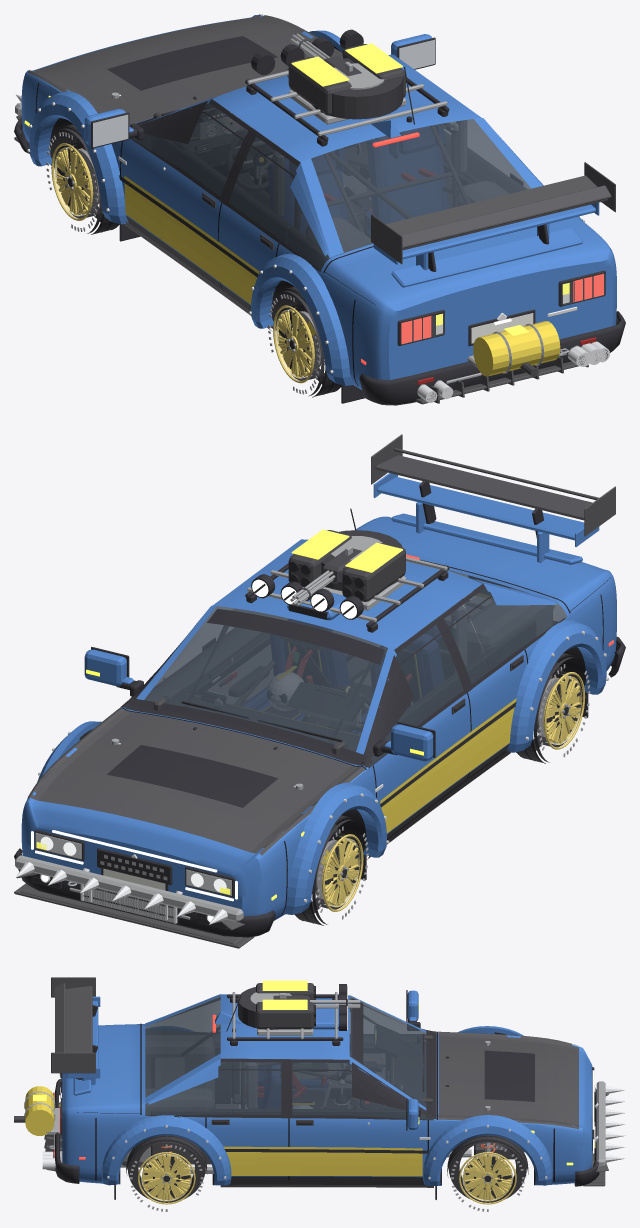
3 renders of one model, top to bottom at view 1: azimuth 30°, elevation 25°; view 2: azimuth 150°, elevation 25°; view 3: azimuth 270°, elevation 25°, orthographic. The views are drawn at different scales.
Visible parts, largest first — view 1: BODY, PART_hood_carbon, PART_flares_widebody, PART_spoiler_gt, PART_roof_rack, MESH_DRIVER_WINDOW, PART_weapon_rockets, PART_hood_vent, PART_weapon_oil, PART_spoiler_lip, PART_spoiler_wing, WHEEL_RL (+8 smaller); view 2: BODY, PART_hood_carbon, PART_flares_widebody, PART_spoiler_gt, MESH_DRIVER_WINDOW, PART_hood_vent, PART_weapon_rockets, PART_spoiler_wing, PART_roof_rack, PART_weapon_spikes, PART_spoiler_lip, WHEEL_RL (+8 smaller); view 3: BODY, PART_hood_carbon, PART_flares_widebody, PART_spoiler_gt, PART_weapon_rockets, PART_hood_vent, PART_roof_rack, WHEEL_RR, WHEEL_FR, PART_weapon_oil, PART_skirt_aero, PART_weapon_spikes (+10 smaller).
Part boxes in pixels (x1,y1,x2,y2): BODY: [14, 15, 625, 405]; PART_hood_carbon: [27, 14, 342, 124]; PART_flares_widebody: [27, 30, 584, 385]; PART_spoiler_gt: [371, 162, 615, 271]; PART_roof_rack: [245, 29, 449, 146]; MESH_DRIVER_WINDOW: [131, 99, 278, 216]; PART_weapon_rockets: [288, 43, 406, 124]; PART_hood_vent: [107, 36, 277, 90]; PART_weapon_oil: [467, 321, 560, 377]; PART_spoiler_lip: [391, 228, 582, 287]; PART_spoiler_wing: [373, 202, 599, 270]; WHEEL_RL: [268, 286, 341, 397]; BODY: [14, 508, 625, 937]; PART_hood_carbon: [27, 708, 364, 855]; PART_flares_widebody: [37, 620, 608, 914]; PART_spoiler_gt: [371, 434, 615, 538]; MESH_DRIVER_WINDOW: [368, 601, 489, 767]; PART_hood_vent: [107, 745, 277, 807]; PART_weapon_rockets: [288, 529, 406, 610]; PART_spoiler_wing: [373, 473, 599, 562]; PART_roof_rack: [245, 530, 449, 632]; PART_weapon_spikes: [15, 855, 243, 924]; PART_spoiler_lip: [391, 513, 582, 564]; WHEEL_RL: [516, 653, 590, 763]; BODY: [49, 990, 599, 1199]; PART_hood_carbon: [438, 1031, 578, 1129]; PART_flares_widebody: [101, 1026, 552, 1186]; PART_spoiler_gt: [51, 977, 97, 1079]; PART_weapon_rockets: [256, 980, 315, 1035]; PART_hood_vent: [484, 1050, 534, 1101]; PART_roof_rack: [227, 984, 347, 1045]; WHEEL_RR: [126, 1135, 207, 1211]; WHEEL_FR: [447, 1135, 528, 1211]; PART_weapon_oil: [14, 1086, 60, 1135]; PART_skirt_aero: [220, 1180, 433, 1187]; PART_weapon_spikes: [596, 1081, 625, 1167].
Bounding box in the file's own units: 2.57 × 1.79 × 5.45.
